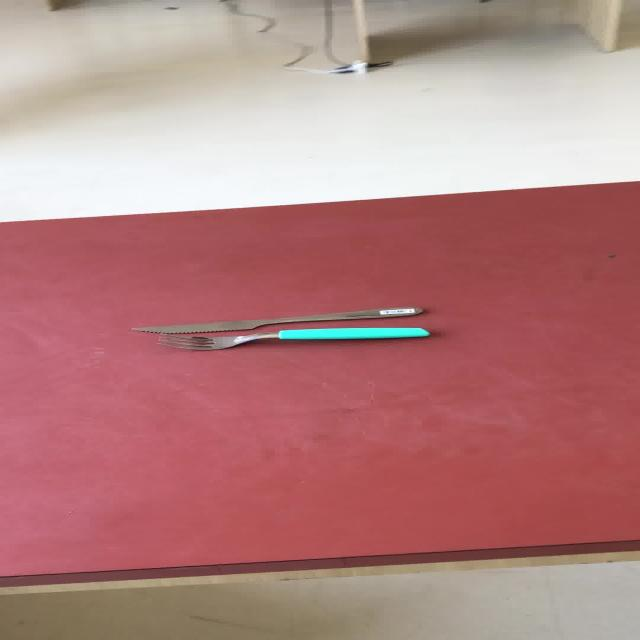fork: (155, 326, 430, 351)
knife fork: (128, 305, 423, 334)
